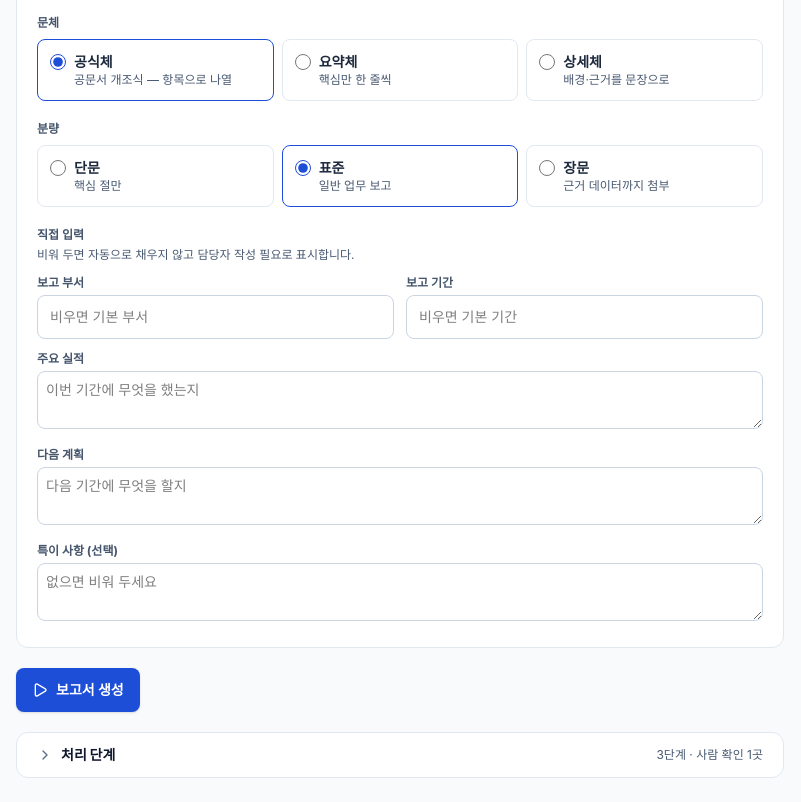
ReportPage › 보고서 설정 › 문체를 바꾸면 같은 사실이 다른 모양으로 쓰인다
(page scrolled)
Click the button "보고서 생성": (78, 690) 16,668 -> 140,712
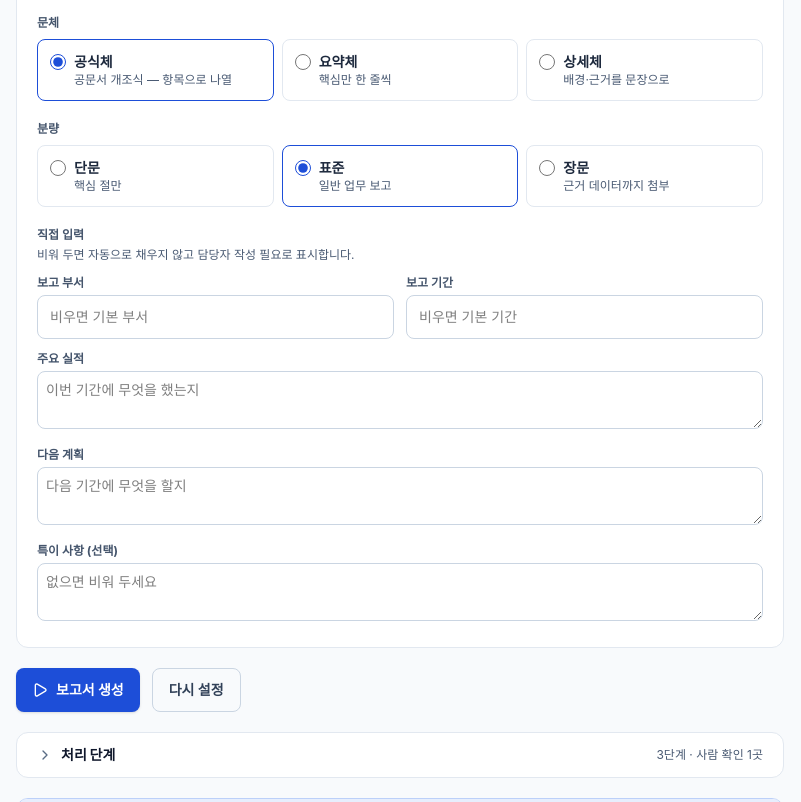
Click the radio button labelled "요약체 핵심만 한 줄씩": (303, 62) 295,54 -> 311,70
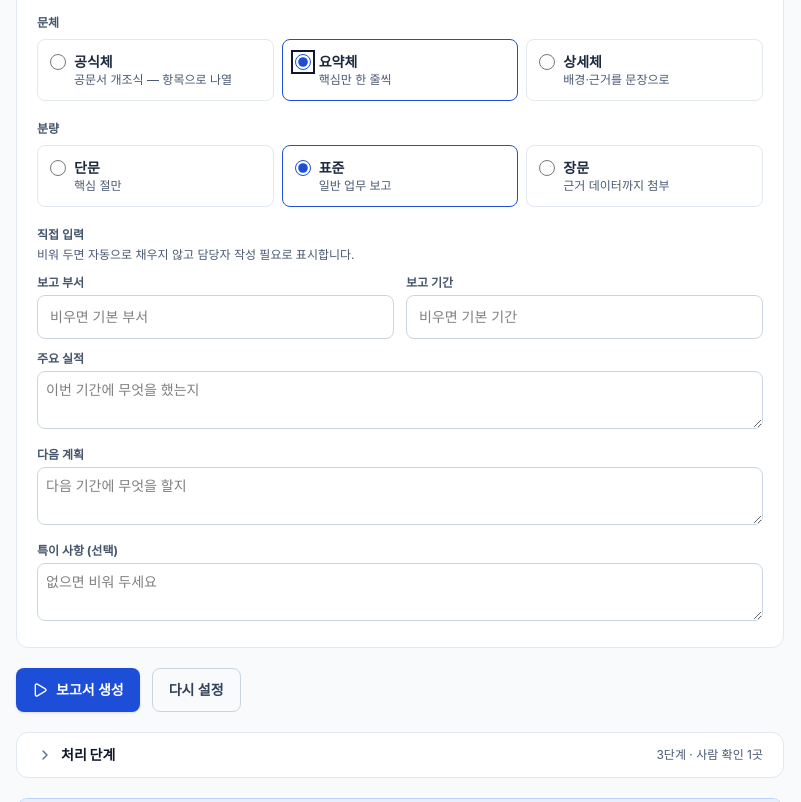
Click the button "보고서 생성": (78, 690) 16,668 -> 140,712
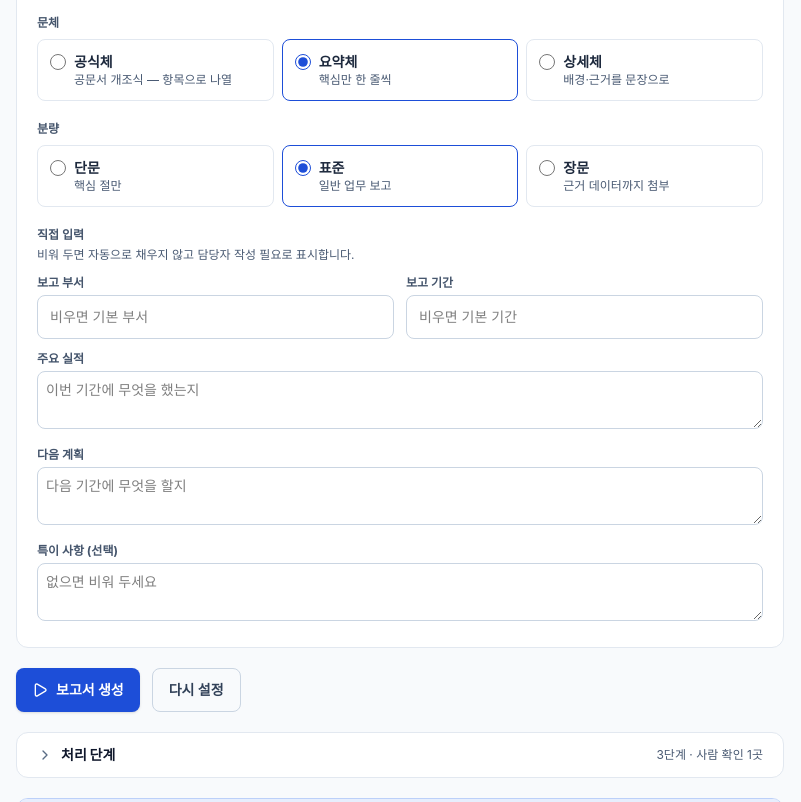
Click the radio button labelled "상세체 배경·근거를 문장으로": (547, 62) 539,54 -> 555,70
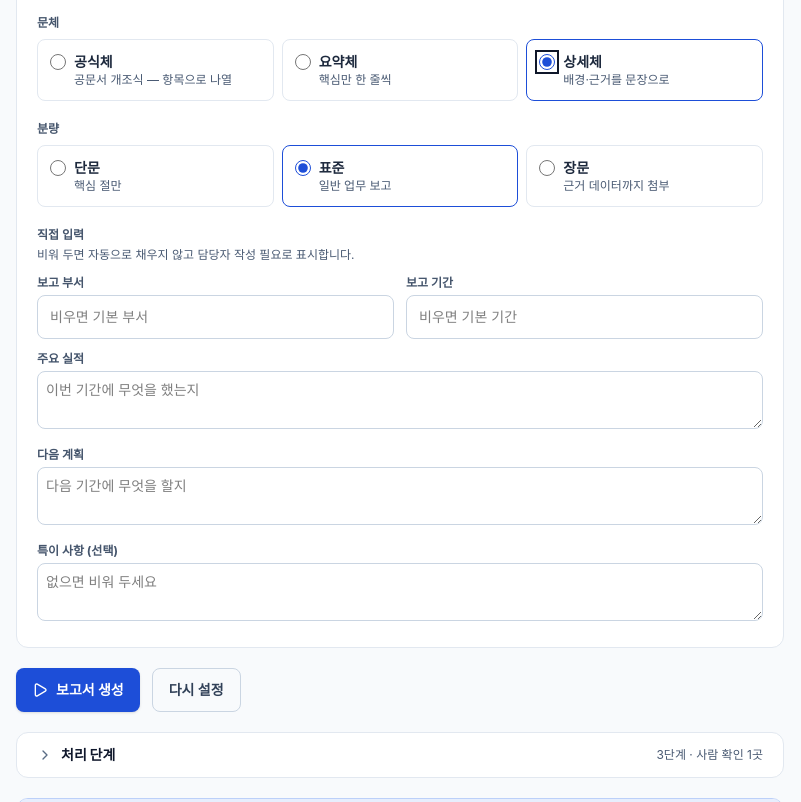
Click the button "보고서 생성": (78, 690) 16,668 -> 140,712
(page scrolled)
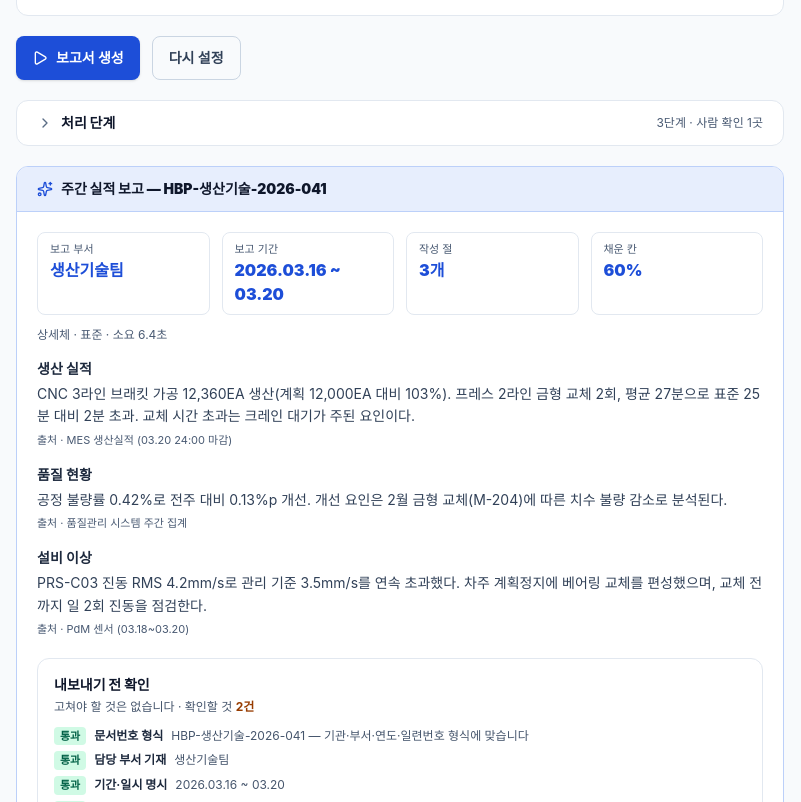
Result: the text "크레인 대기가 주된 요인" is shown at 37,384 -> 760,424
